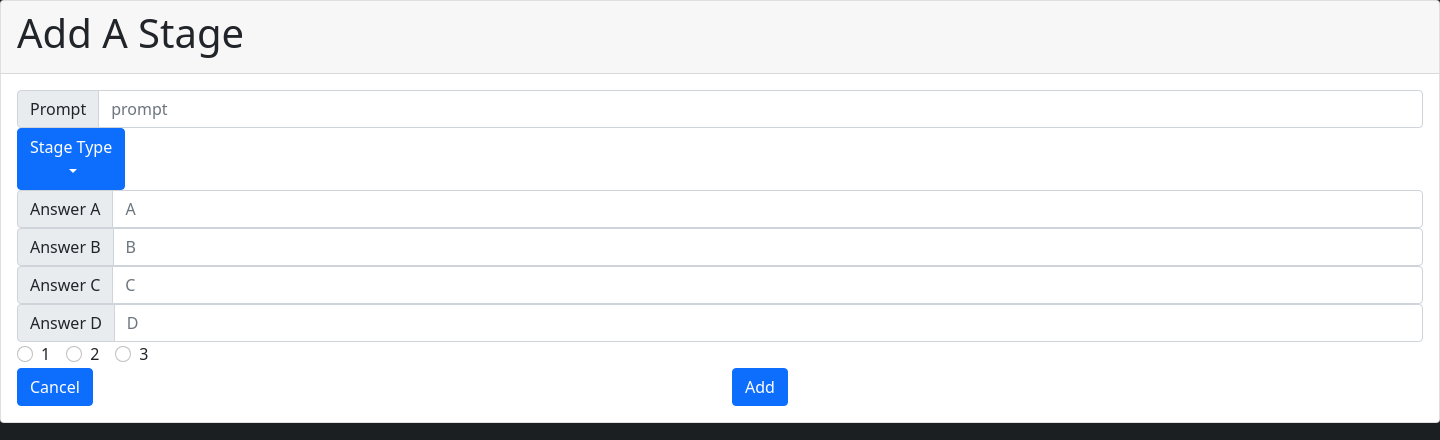
Scenario: should show Boolean, Multiple Choice, and Text when dropdown menu clicked MultChoice
What coordinates should you click on to do the following:
click the button "Stage Type"
I would click on:
 (71, 159)
Its box is [17,128,125,190].
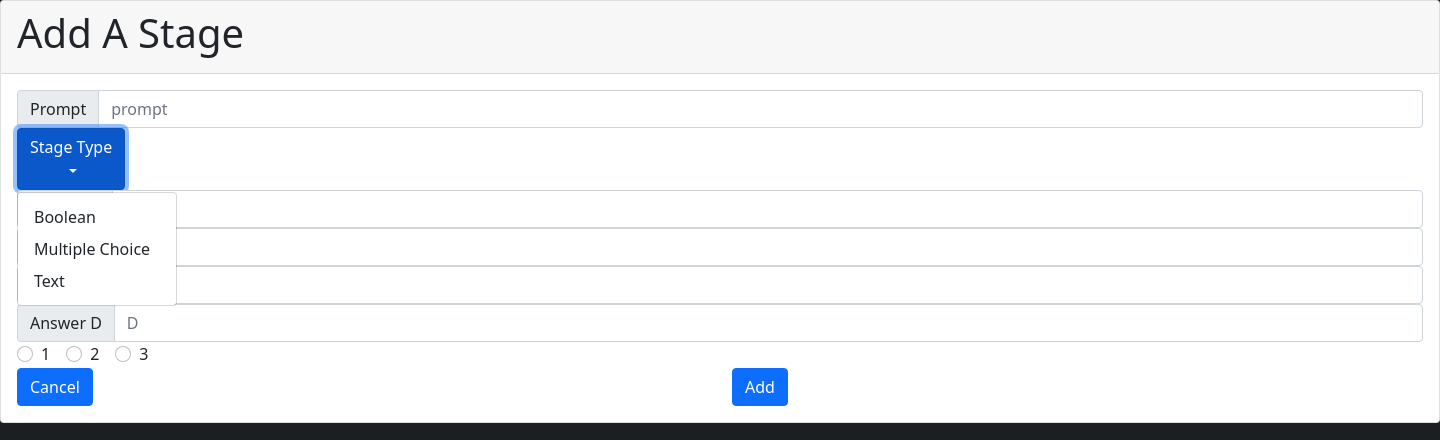
Result: the button "Boolean" is shown at [34,206,96,228]
Result: the button "Multiple Choice" is shown at [34,238,150,260]
Result: the button "Text" is shown at [34,270,65,292]
